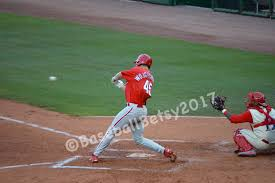baseball: (47, 74, 58, 83)
baseball player: (87, 52, 179, 165), (211, 91, 275, 159)
